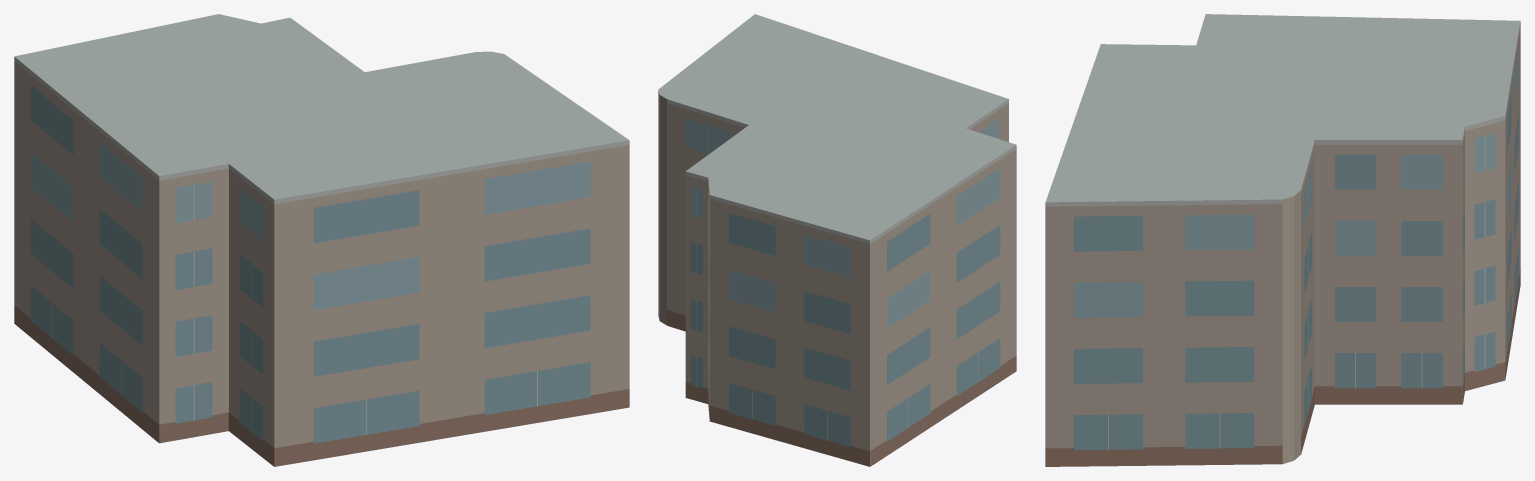
File: survey-upis-32498712.glb
3 views of the same model, side by side, from view 1: azimuth 30°, elevation 25°; view 2: azimuth 150°, elevation 25°; view 3: azimuth 270°, elevation 25° (orthographic). The views are drawn at different scales.
Visible parts, largest first — view 1: survey-upis-32498712.tmp; view 2: survey-upis-32498712.tmp; view 3: survey-upis-32498712.tmp.
Part boxes in pixels (bbox=[...]): survey-upis-32498712.tmp: bbox=[14, 14, 629, 466]; survey-upis-32498712.tmp: bbox=[658, 14, 1016, 466]; survey-upis-32498712.tmp: bbox=[1045, 14, 1520, 466].
Bounding box in the file's own units: 21.75 × 14.25 × 23.2.
